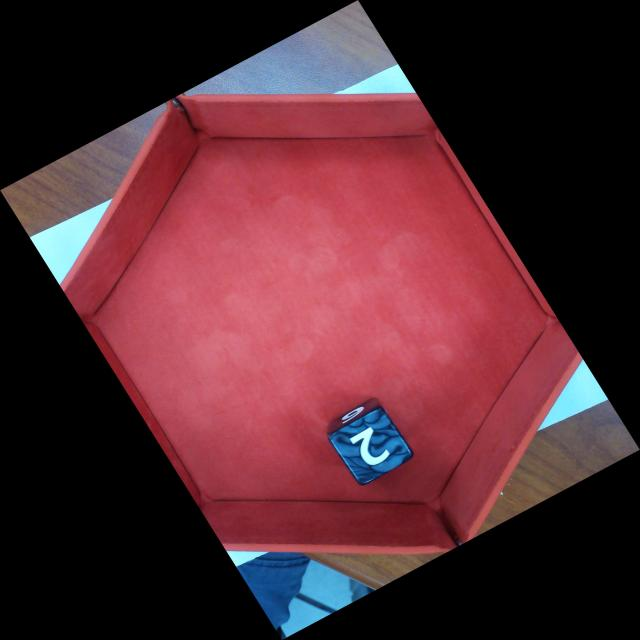dice: (331, 410, 414, 485)
